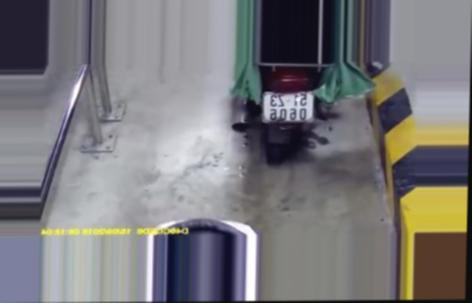License_Plate: (256, 87, 319, 128)
